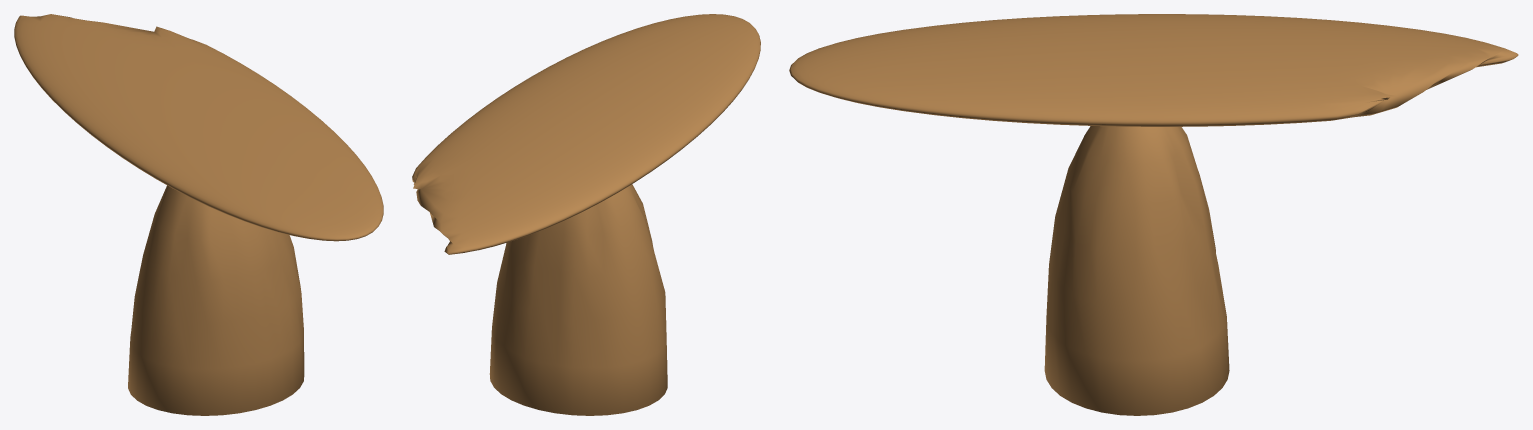
File: prehistoric_1.fbx
The picture shows the model from 3 angles, left to right: view 1: azimuth 30°, elevation 25°; view 2: azimuth 150°, elevation 25°; view 3: azimuth 270°, elevation 25°; orthographic projection. The views are drawn at different scales.
Parts seen in each view (by area): view 1: Sphere, Sphere.001; view 2: Sphere, Sphere.001; view 3: Sphere, Sphere.001.
Part boxes in pixels (<box>): Sphere: <box>14,14,383,241</box>; Sphere.001: <box>128,185,304,415</box>; Sphere: <box>412,14,760,254</box>; Sphere.001: <box>489,184,667,415</box>; Sphere: <box>789,14,1518,126</box>; Sphere.001: <box>1044,126,1229,415</box>.
Size of the model in its own units: 1654 by 2262 by 4755.
